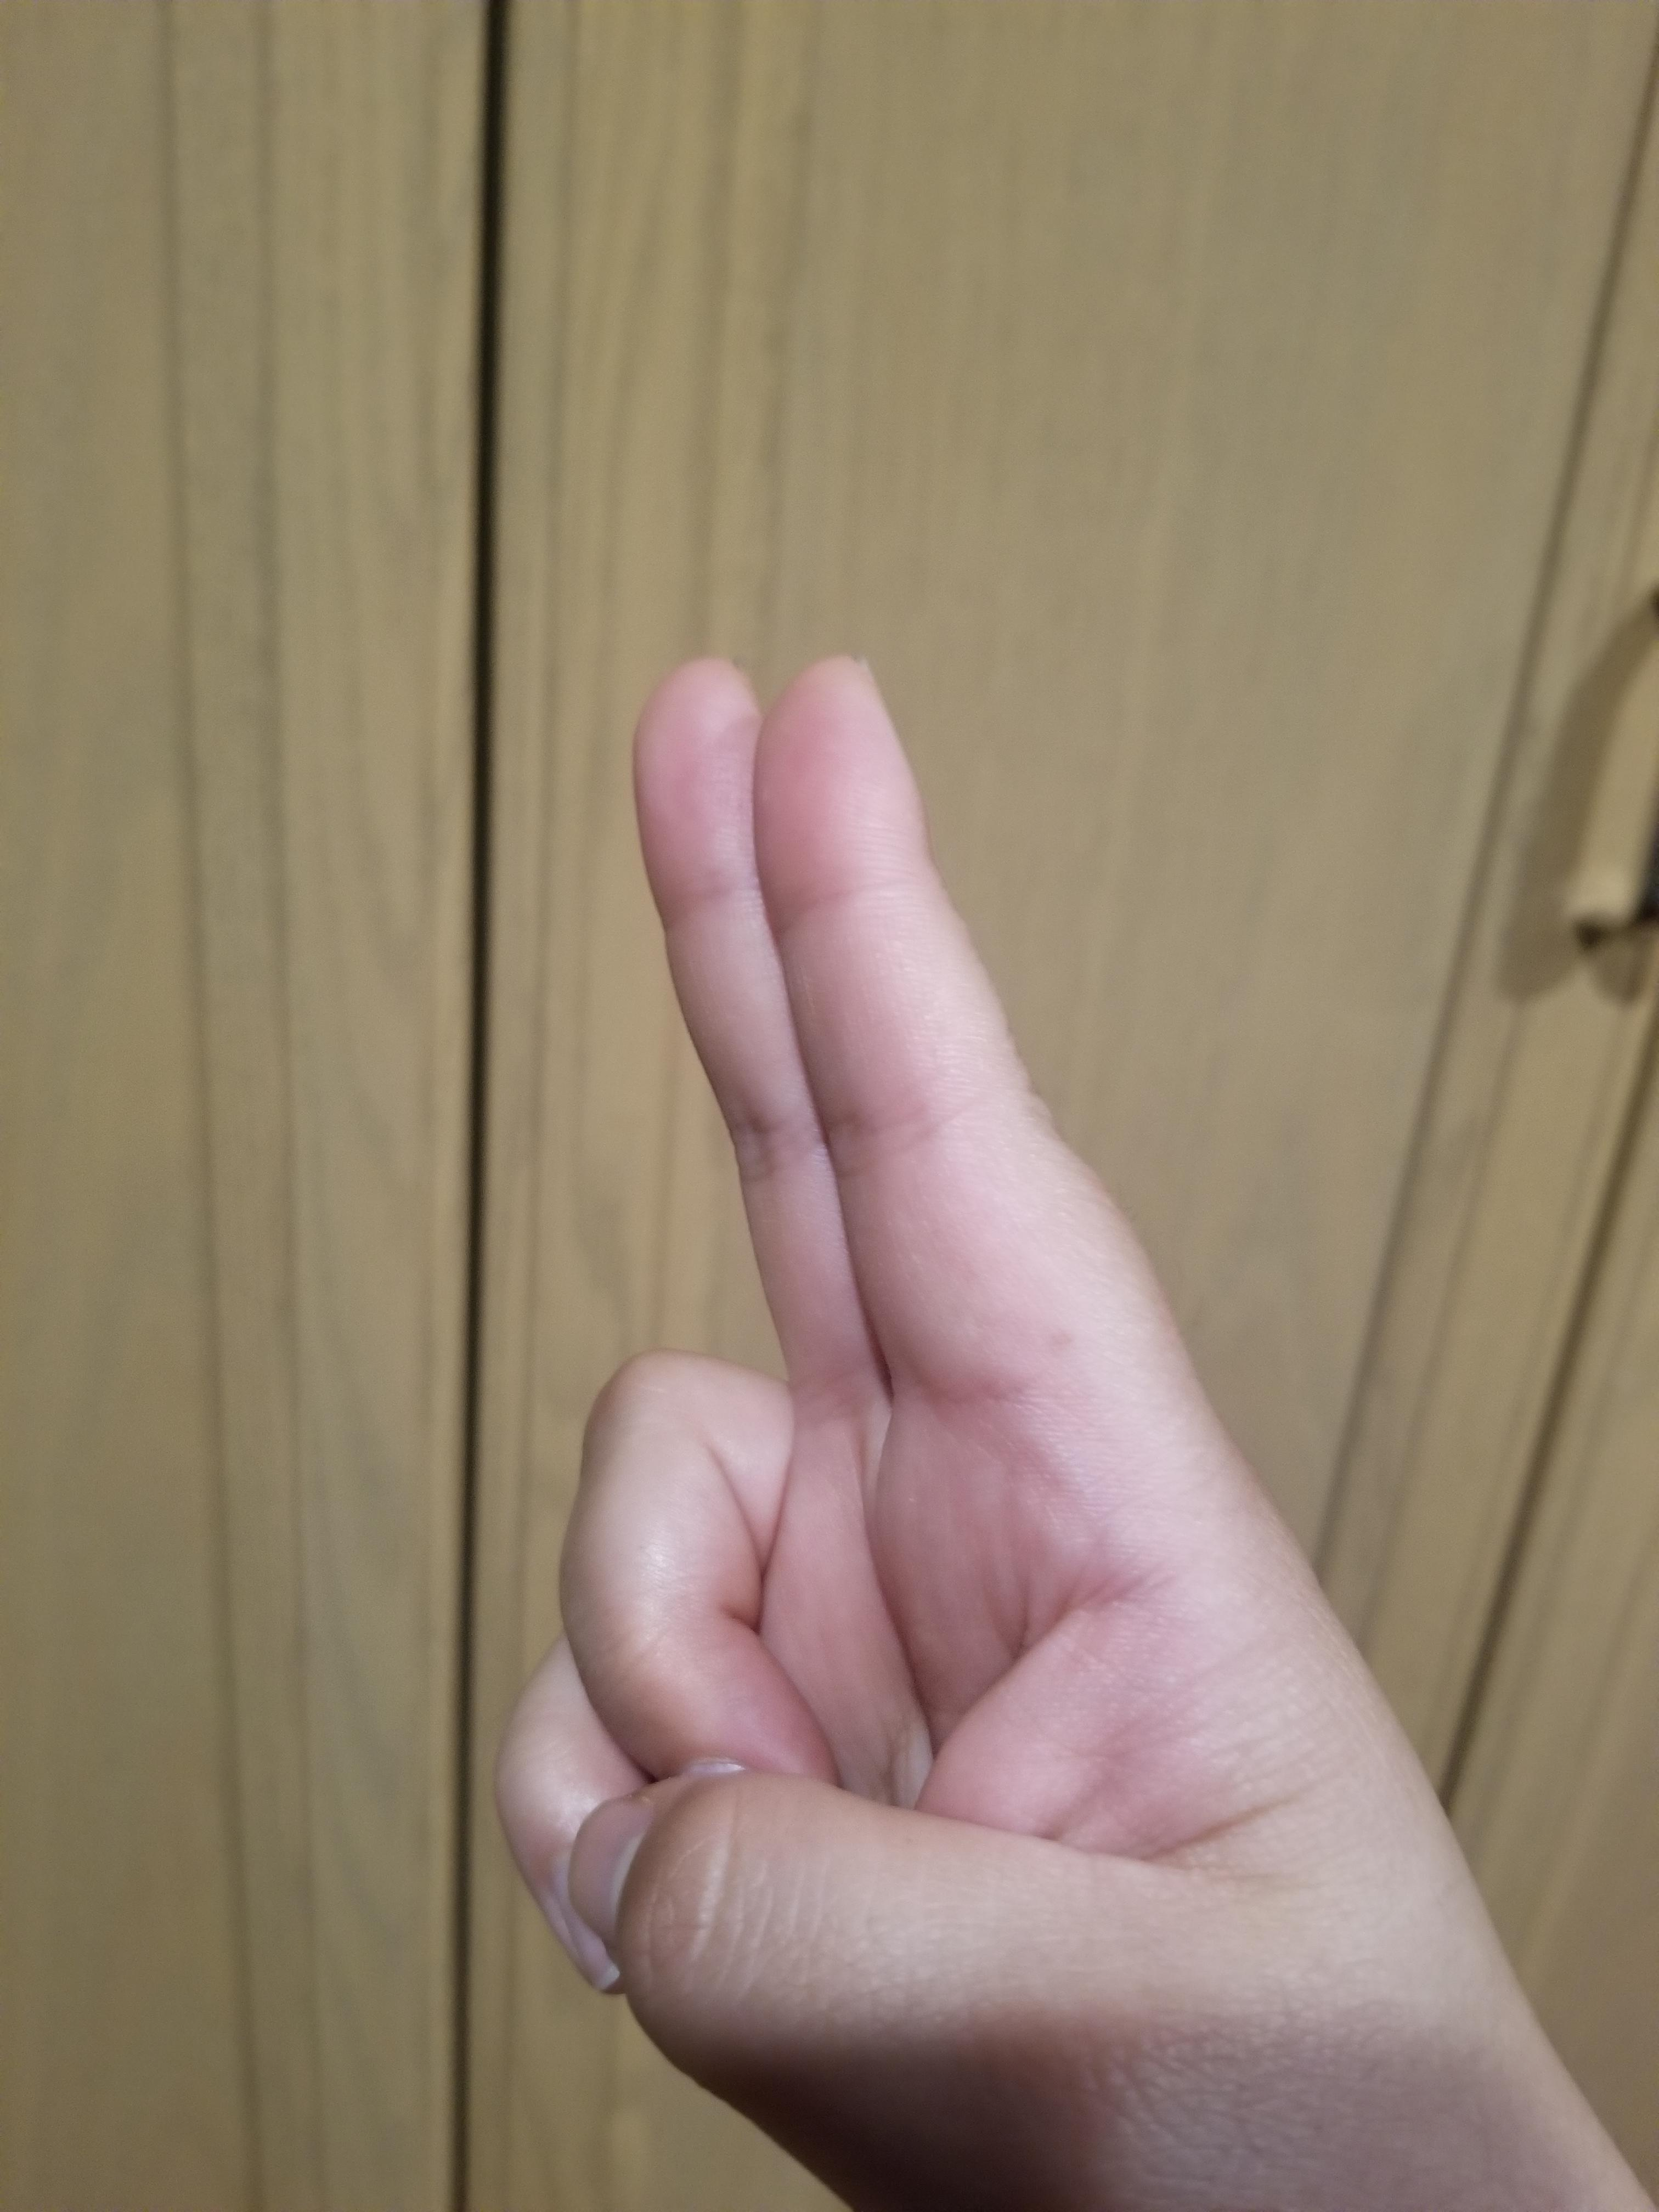U: (472, 634, 1546, 2212)
